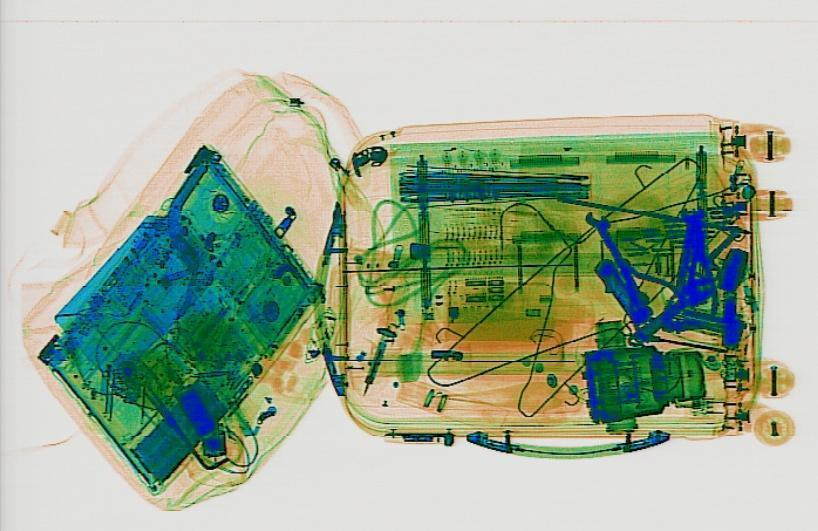Wrench: (580, 209, 659, 323)
